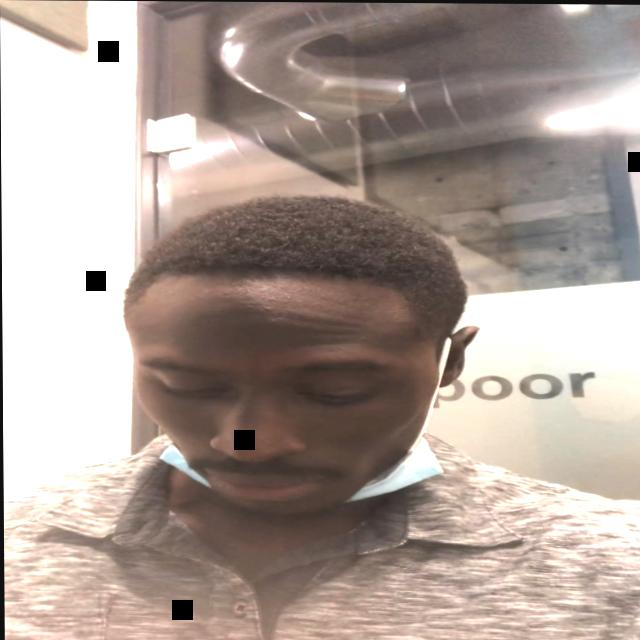NO-Mask: (125, 274, 463, 515)
